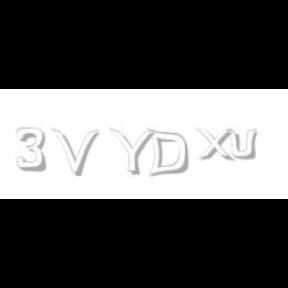3: (16, 128, 48, 172)
D: (146, 128, 189, 178)
V: (51, 128, 99, 176)
Y: (109, 128, 155, 176)
u: (226, 128, 262, 160)
x: (196, 128, 238, 162)
